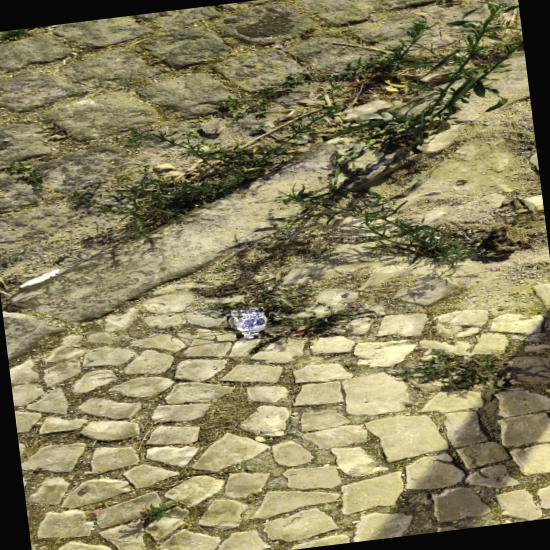Other plastic: (231, 308, 268, 340)
Other plastic bottle: (20, 269, 60, 288)
